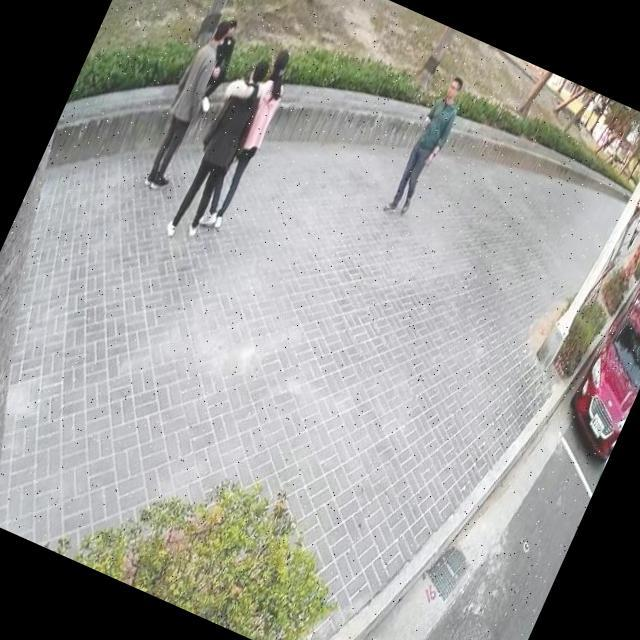person: (158, 42, 282, 250), (195, 41, 303, 236), (132, 8, 242, 198), (377, 65, 475, 227), (188, 15, 250, 116), (624, 202, 640, 251), (624, 190, 640, 230)
